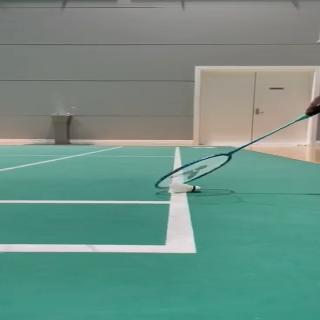Shuttle: (168, 180, 202, 193)
